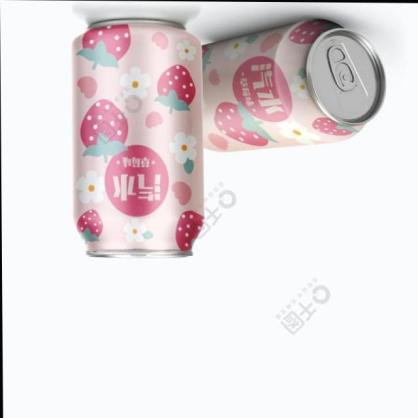can: (68, 18, 203, 261)
